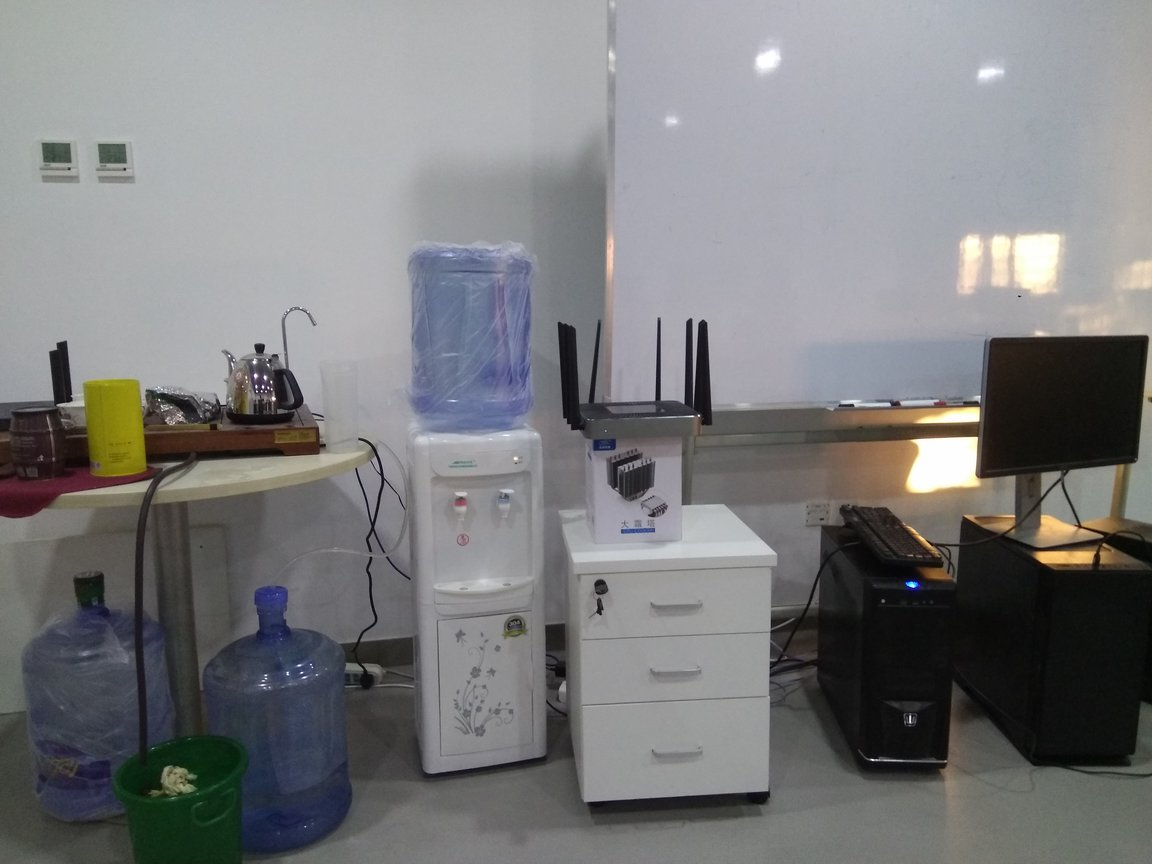computer: (958, 502, 1150, 774), (817, 519, 951, 785)
drawer chest: (561, 496, 774, 811)
monitor: (971, 325, 1152, 556)
scuttlebutt: (207, 584, 356, 861), (30, 567, 183, 826), (405, 239, 538, 436)
water dispenser: (400, 418, 550, 788)
